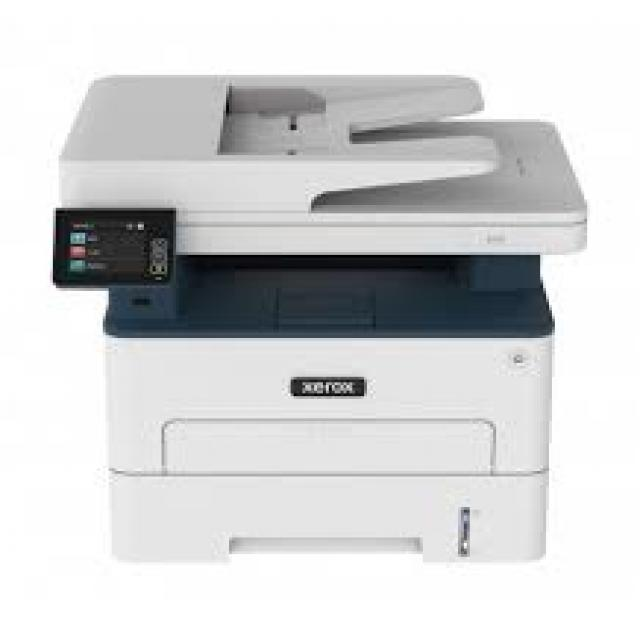printer: (55, 40, 627, 621)
